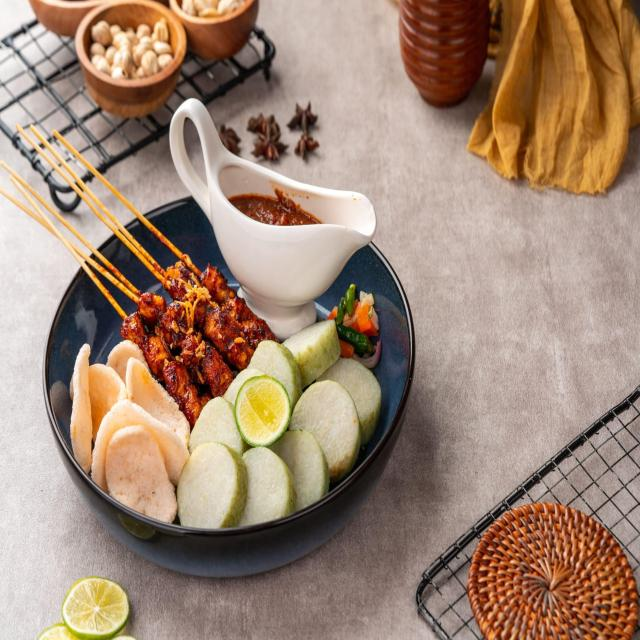Sate: (10, 95, 278, 425)
